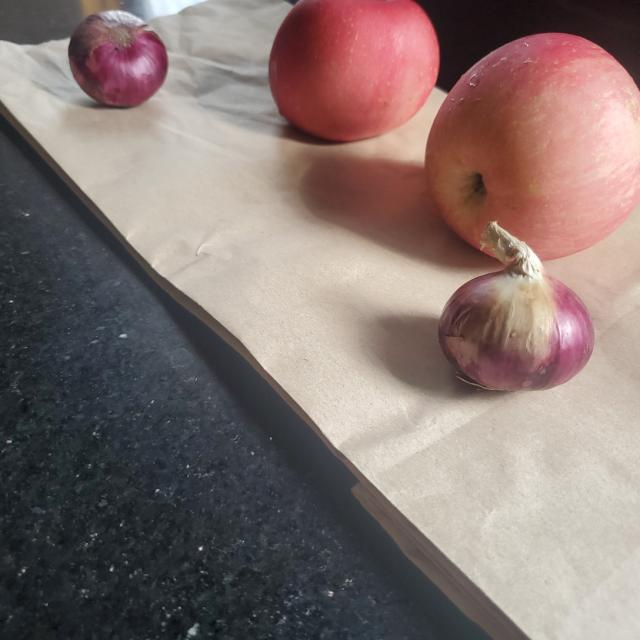apple: (426, 32, 638, 260), (264, 0, 437, 135)
onion: (441, 223, 596, 391), (66, 11, 168, 109)
